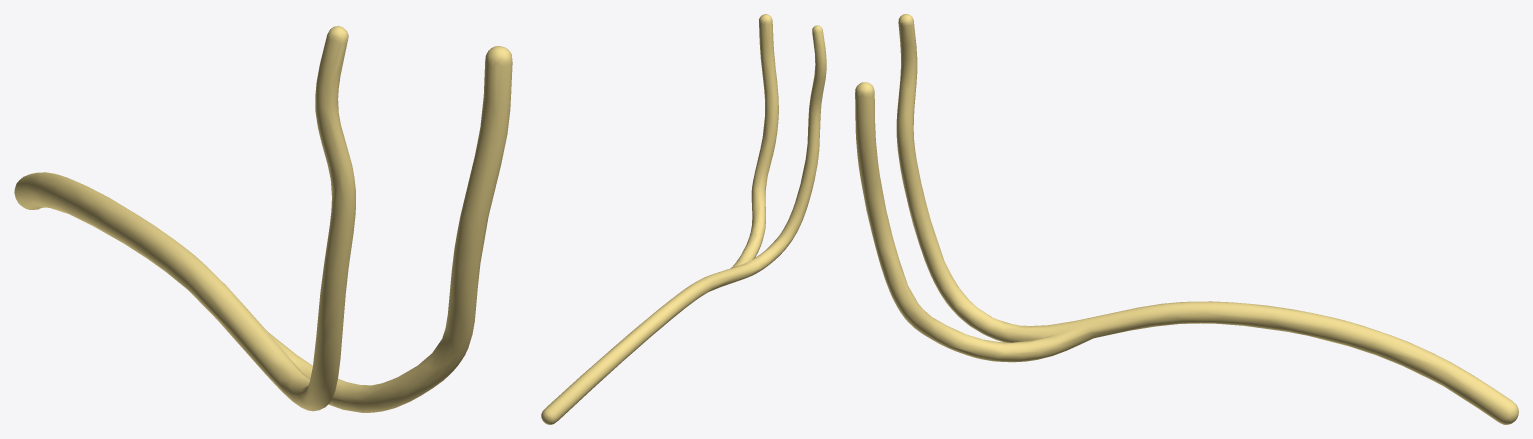
The model's file is fma52656_fj1376.glb.
3 views of the same model, side by side, from view 1: azimuth 30°, elevation 25°; view 2: azimuth 150°, elevation 25°; view 3: azimuth 270°, elevation 25° (orthographic). The views are drawn at different scales.
Parts seen in each view (by area): view 1: FMA52656_FJ1376; view 2: FMA52656_FJ1376; view 3: FMA52656_FJ1376.
Boxes of the visible parts, <box> form: FMA52656_FJ1376: <box>14,26,512,412</box>; FMA52656_FJ1376: <box>541,14,826,424</box>; FMA52656_FJ1376: <box>855,14,1518,424</box>.
Bounding box in the file's own units: 0.00714 × 0.0216 × 0.0352.
